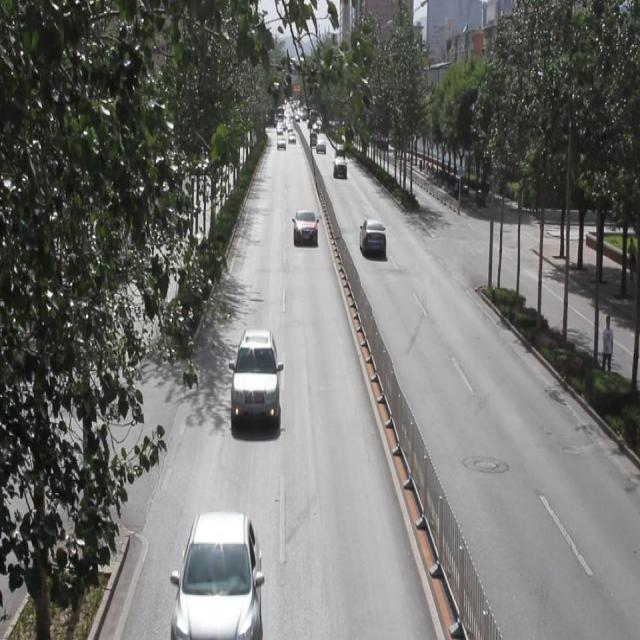car: (171, 512, 261, 640), (231, 326, 280, 425), (359, 216, 388, 259), (293, 208, 318, 247), (332, 157, 348, 177), (315, 136, 327, 153), (334, 141, 345, 159), (276, 132, 286, 150), (288, 130, 296, 144)
truck: (309, 130, 317, 145)
